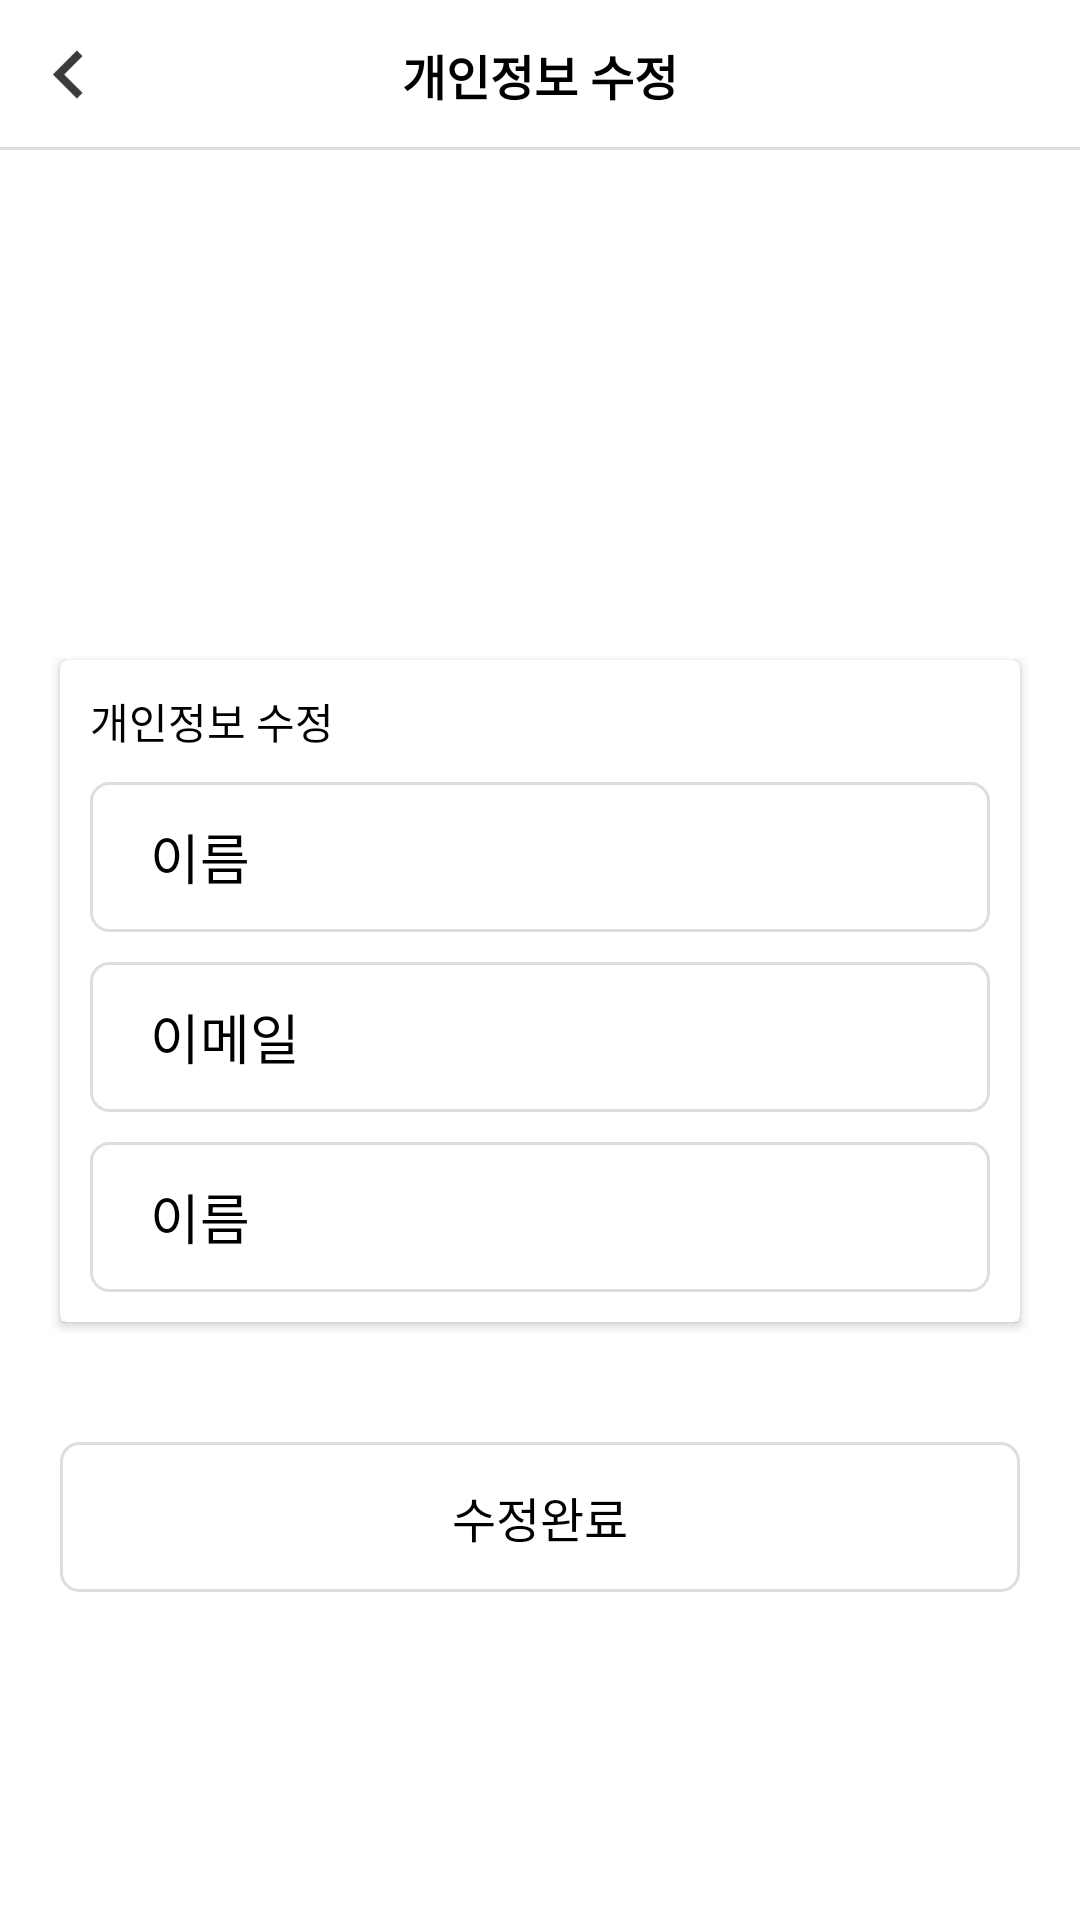

Icon click points for this 1080px×1920px phone screenshot, format point (x, y):
arrow: point (68, 74)
